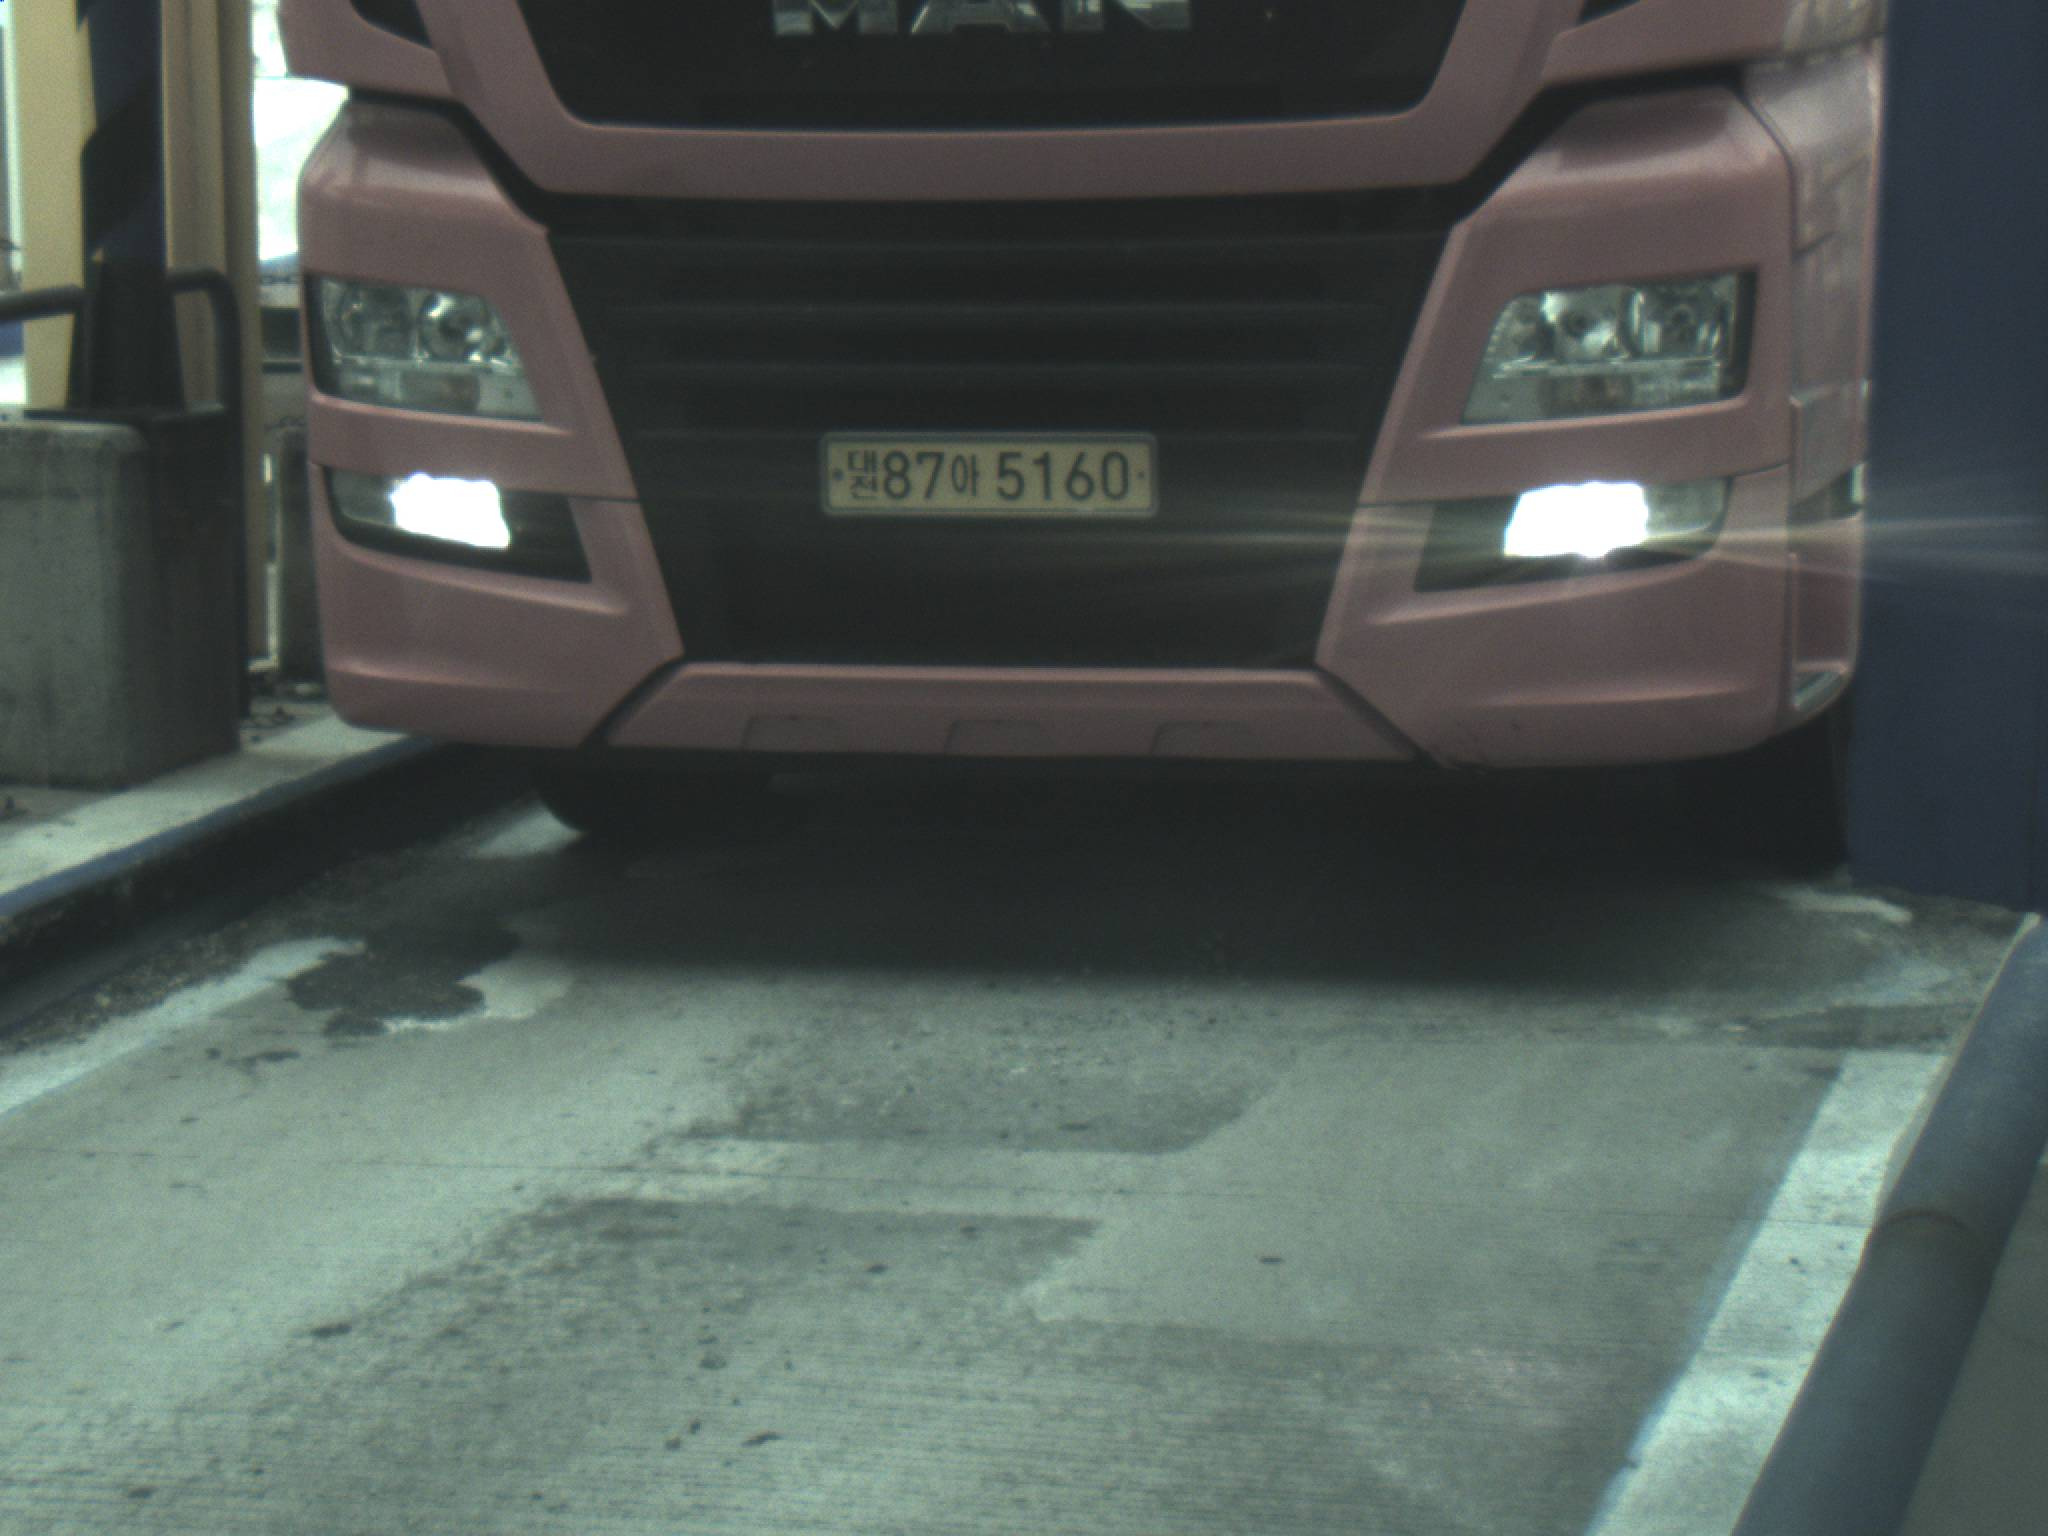car: (278, 1, 1853, 881)
plate: (816, 423, 1161, 523)
